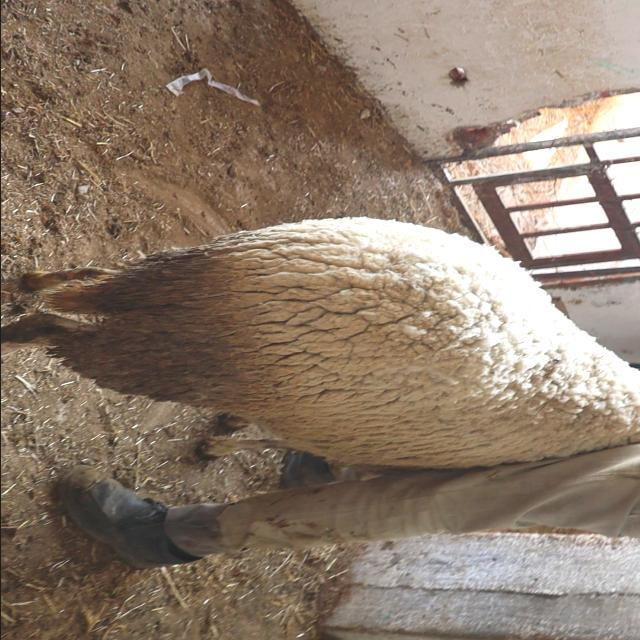Score_5: (1, 217, 640, 468)
